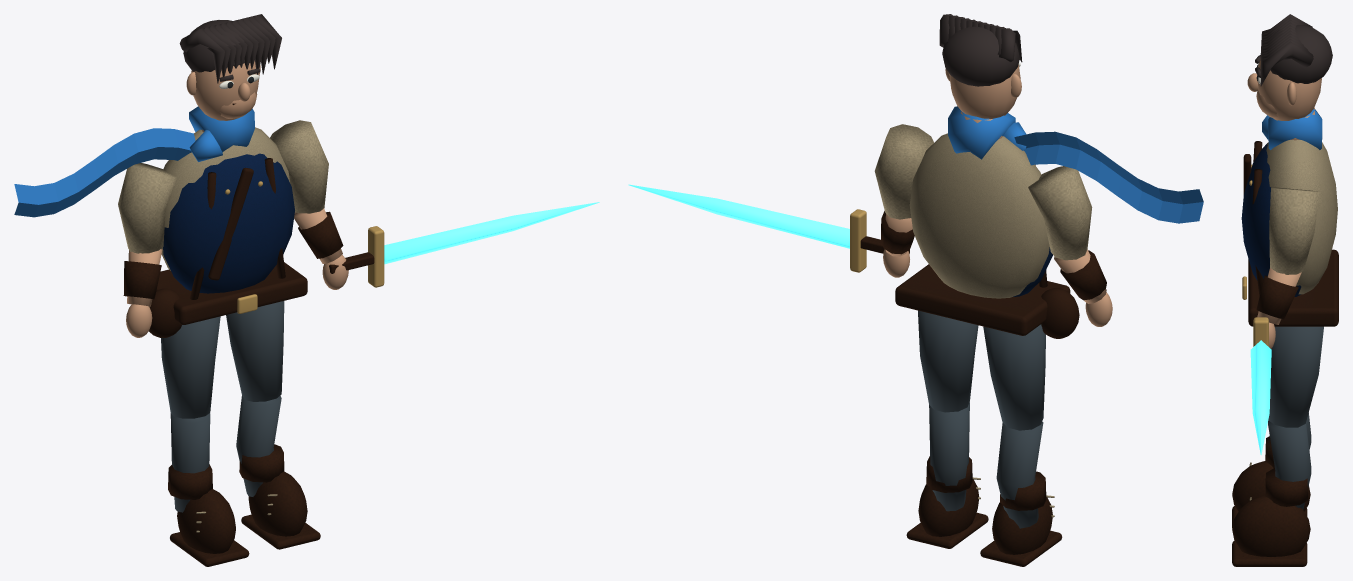
The model's file is kael.glb.
3 views of the same model, side by side, from view 1: azimuth 30°, elevation 25°; view 2: azimuth 150°, elevation 25°; view 3: azimuth 270°, elevation 25° (orthographic). The views are drawn at different scales.
Visible parts, largest first — view 1: Linen torso, Scarf collar, Shin.001, Shin, Thigh.001, Thigh, Grip, Sleeve, Sleeve.001, Forearm, Forearm.001; view 2: Linen torso, Scarf collar, Shin, Shin.001, Thigh, Thigh.001, Grip, Sleeve, Sleeve.001, Forearm, Forearm.001; view 3: Linen torso, Shin.001, Thigh.001, Sleeve.001, Grip, Forearm.001, Shin, Scarf collar.
Boxes of the visible parts, <box> form: Linen torso: <box>149,14,307,337</box>; Scarf collar: <box>14,106,254,217</box>; Shin.001: <box>236,395,320,549</box>; Shin: <box>168,413,249,566</box>; Thigh.001: <box>226,301,284,401</box>; Thigh: <box>161,316,220,418</box>; Grip: <box>329,202,599,287</box>; Sleeve: <box>118,163,177,253</box>; Sleeve.001: <box>270,120,328,213</box>; Forearm: <box>123,249,162,337</box>; Forearm.001: <box>294,208,348,289</box>; Linen torso: <box>895,14,1079,338</box>; Scarf collar: <box>948,106,1203,223</box>; Shin: <box>980,421,1062,566</box>; Shin.001: <box>906,402,988,548</box>; Thigh: <box>983,324,1045,430</box>; Thigh.001: <box>918,310,978,412</box>; Grip: <box>628,184,909,272</box>; Sleeve: <box>1028,166,1092,260</box>; Sleeve.001: <box>874,124,933,219</box>; Forearm: <box>1054,249,1112,326</box>; Forearm.001: <box>880,211,914,277</box>; Linen torso: <box>1241,14,1338,326</box>; Shin.001: <box>1232,420,1311,566</box>; Thigh.001: <box>1268,326,1323,427</box>; Sleeve.001: <box>1269,187,1319,274</box>; Grip: <box>1250,317,1271,454</box>; Forearm.001: <box>1256,268,1301,348</box>; Shin: <box>1232,412,1311,527</box>; Scarf collar: <box>1262,109,1322,149</box>.
Size of the model in its own units: 1.91 by 1.66 by 0.3125.
Materials: 11 (3 with a texture image).
